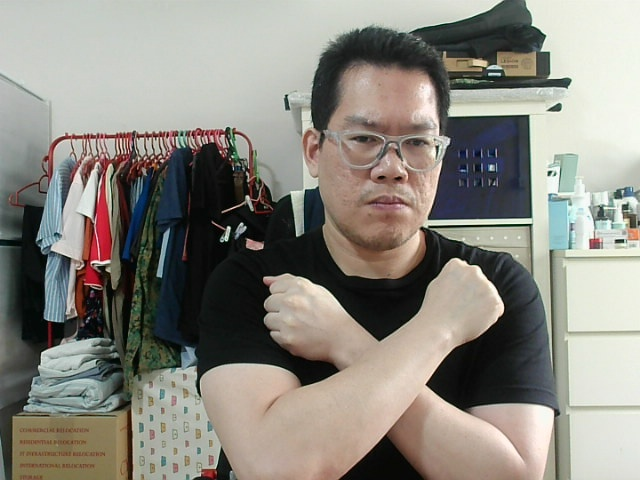love: (429, 263, 499, 326)
